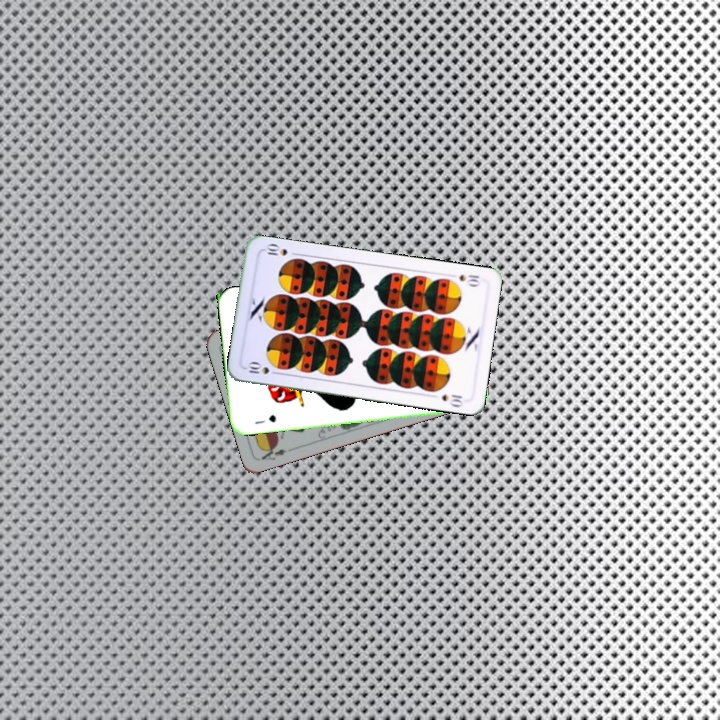EA: (257, 441, 296, 463)
GU: (251, 410, 278, 427)
S10: (244, 359, 282, 377), (455, 270, 482, 289)
